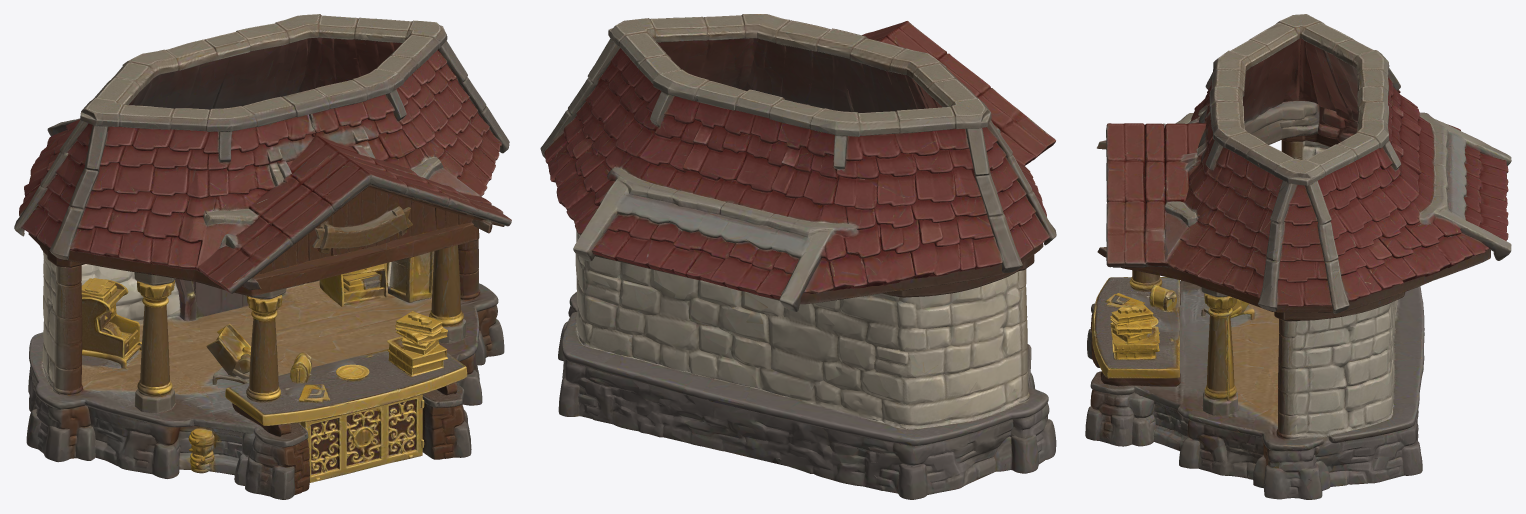
Rendered from BankStall_A_town.glb.
3 renders of one model, left to right at view 1: azimuth 30°, elevation 25°; view 2: azimuth 150°, elevation 25°; view 3: azimuth 270°, elevation 25°, orthographic. The views are drawn at different scales.
Parts seen in each view (by area): view 1: Mesh_0; view 2: Mesh_0; view 3: Mesh_0.
Boxes of the visible parts, x1,y1,x2,y2 form: Mesh_0: [14, 14, 511, 499]; Mesh_0: [540, 14, 1056, 499]; Mesh_0: [1085, 14, 1511, 499].
Size of the model in its own units: 1.9 by 1.29 by 1.63.
1 material, 1 textured.
